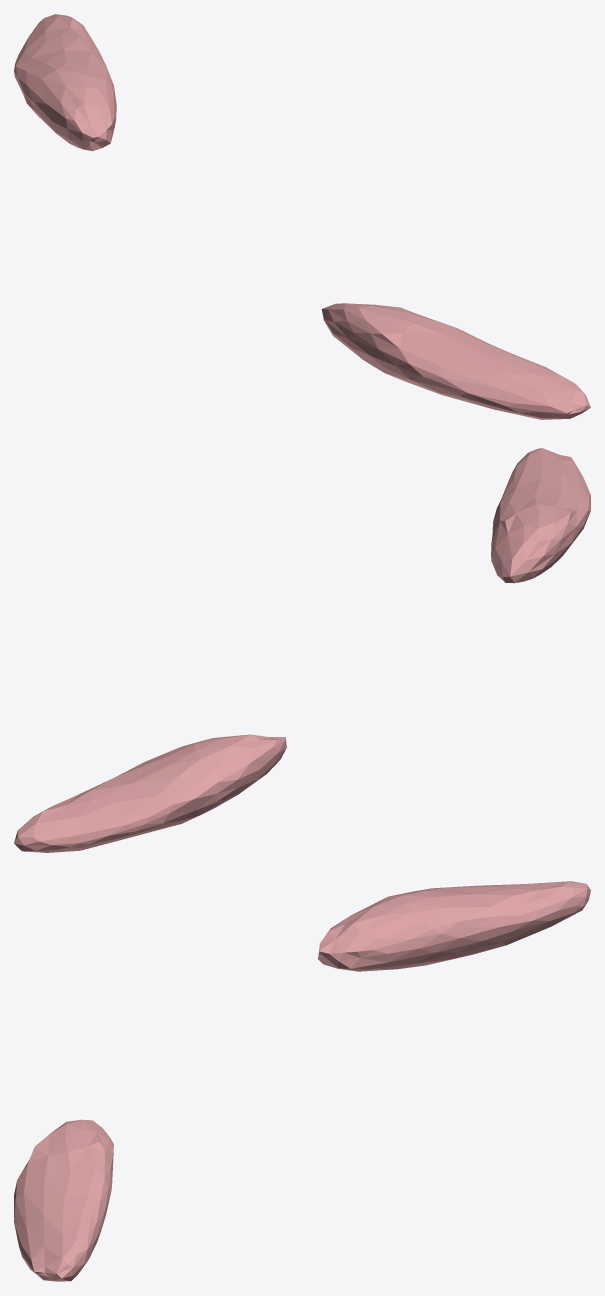
3 views of the same model, one above another, from view 1: azimuth 30°, elevation 25°; view 2: azimuth 150°, elevation 25°; view 3: azimuth 330°, elevation 25° (orthographic).
Parts seen in each view (by area): view 1: 422.obj; view 2: 422.obj; view 3: 422.obj.
Part boxes in pixels (bbox=[...]): 422.obj: bbox=[14, 14, 590, 419]; 422.obj: bbox=[14, 448, 590, 852]; 422.obj: bbox=[14, 881, 590, 1281].
Size of the model in its own units: 539 by 251 by 3724.
